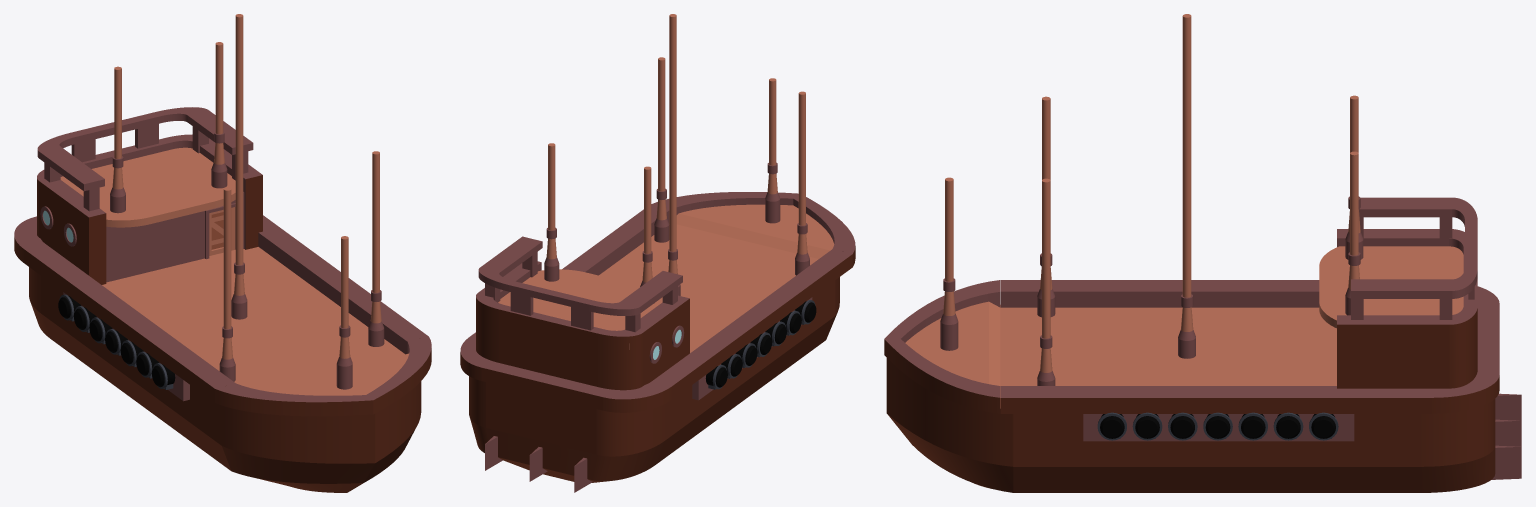
Rendered from player_ship_3_no_sail.obj.
3 renders of one model, left to right at view 1: azimuth 30°, elevation 25°; view 2: azimuth 150°, elevation 25°; view 3: azimuth 270°, elevation 25°, orthographic. The views are drawn at different scales.
Parts seen in each view (by area): view 1: mergedBlocks; view 2: mergedBlocks; view 3: mergedBlocks.
Boxes of the visible parts, x1,y1,x2,y2 form: mergedBlocks: [14, 14, 431, 492]; mergedBlocks: [460, 14, 855, 492]; mergedBlocks: [884, 14, 1521, 492].
Bounding box in the file's own units: 3.4 × 5.67 × 7.24.
